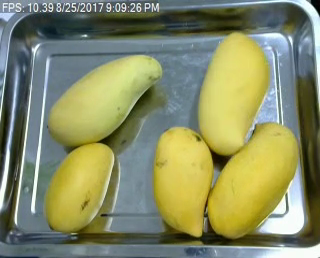Mango: (46, 51, 163, 147), (205, 122, 301, 237), (195, 30, 270, 153), (41, 142, 117, 232), (154, 125, 213, 238)
